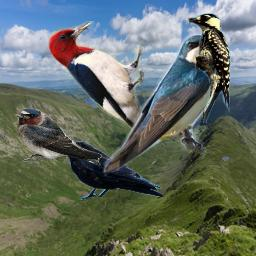Crow: (59, 141, 166, 200)
Swallow: (99, 29, 221, 176), (13, 107, 103, 166)
Woodpecker: (47, 21, 145, 137), (186, 13, 233, 124)
